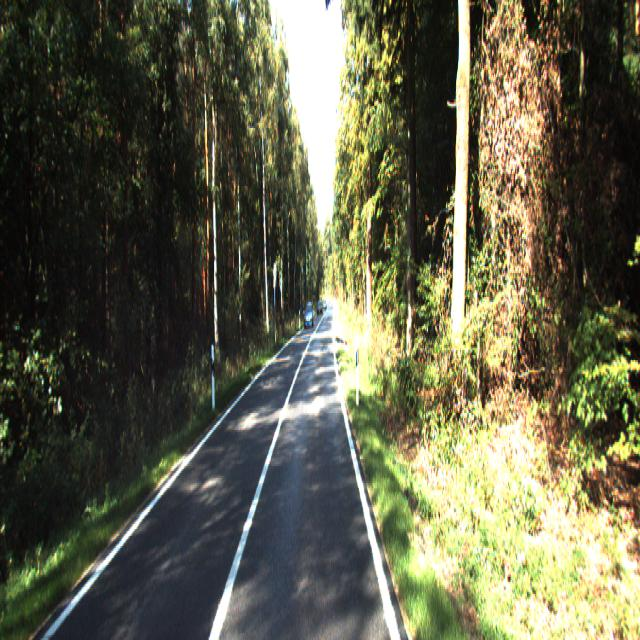Car: (304, 305, 314, 332)
